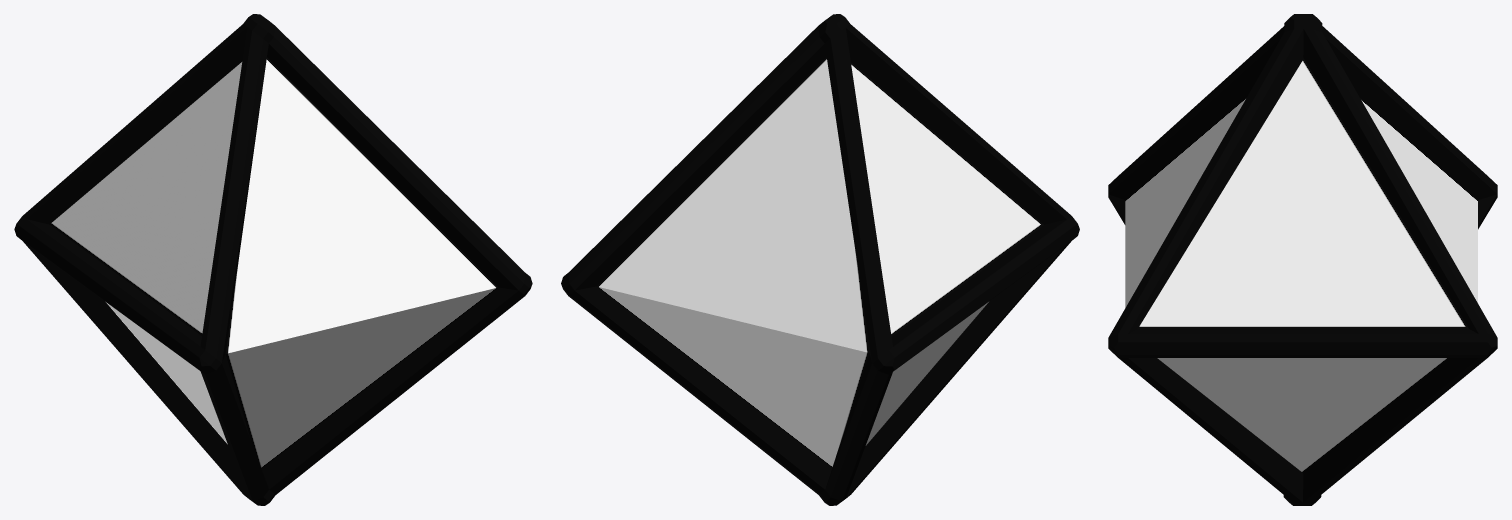
The model's file is Nuke.fbx.
3 renders of one model, left to right at view 1: azimuth 30°, elevation 25°; view 2: azimuth 150°, elevation 25°; view 3: azimuth 270°, elevation 25°, orthographic.
Parts seen in each view (by area): view 1: Nuke; view 2: Nuke; view 3: Nuke.
Boxes of the visible parts, <box> form: Nuke: <box>14,14,532,505</box>; Nuke: <box>561,14,1079,505</box>; Nuke: <box>1108,14,1497,505</box>.
Bounding box in the file's own units: 198 × 276 × 200.
